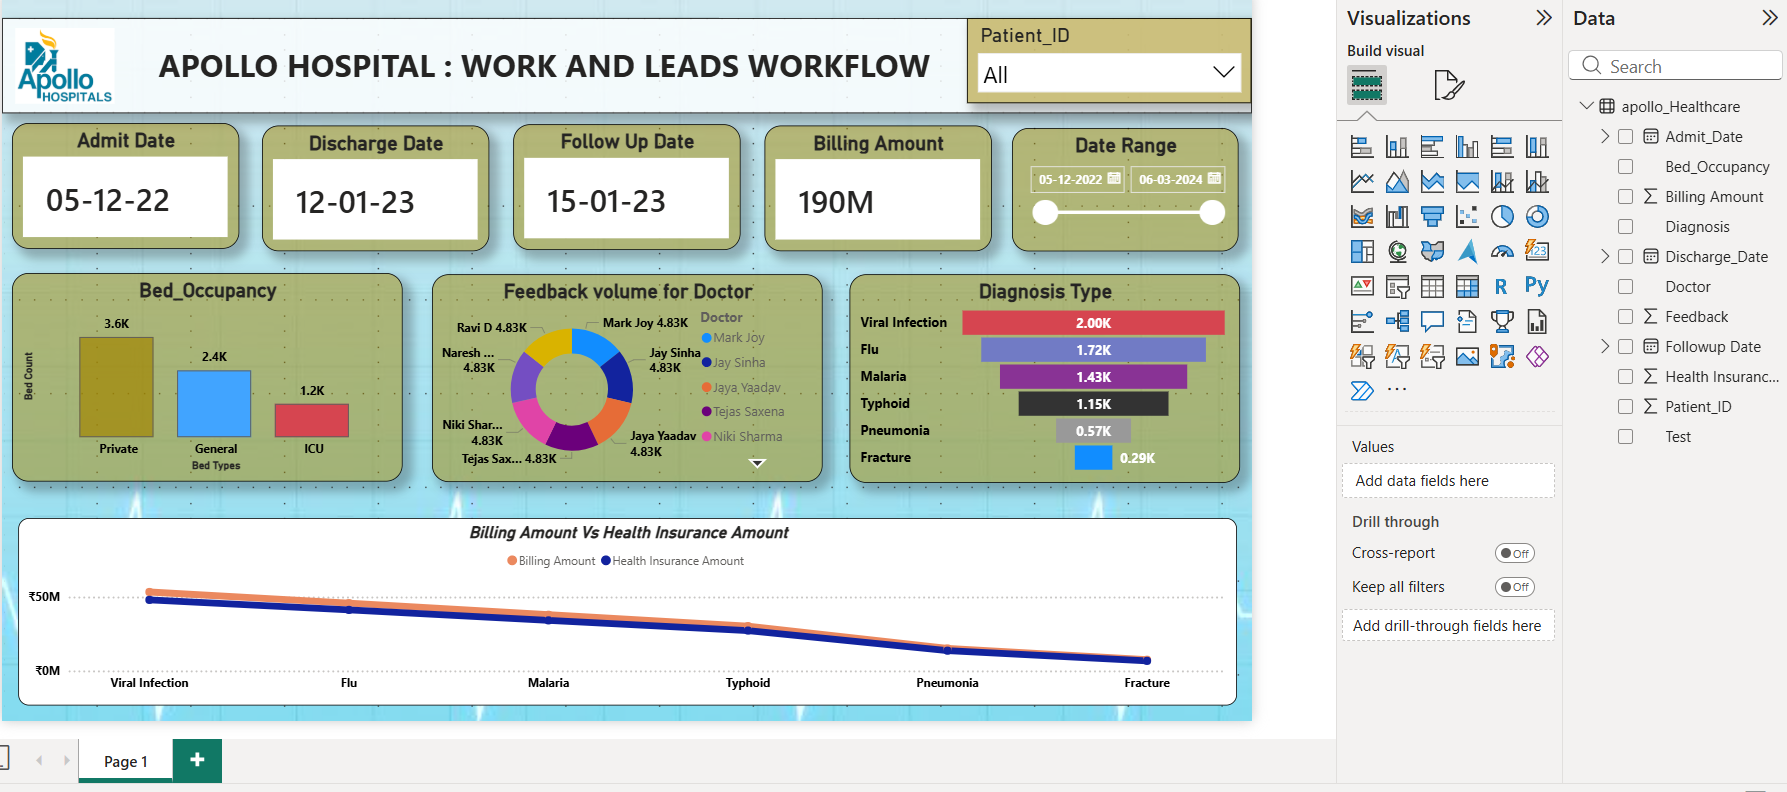

The dashboard page shown, as its layout file describes it:
{"tool":"powerbi","page":{"name":"Page 1","canvas":[1280,720],"ordinal":0},"visuals":[{"type":"textbox","box":[0,0,1280,97.5],"z":0},{"type":"image","box":[0,10,133.8,77.5],"z":1000},{"type":"slicer","fields":{"Values":["apollo_Healthcare.Patient_ID"]},"box":[988.8,0,291.2,87.5],"z":2000},{"type":"cardVisual","title":"Admit Date","fields":{"Data":["Min(apollo_Healthcare.Admit_Date)"]},"box":[10,107.5,232.5,128.8],"z":3000},{"type":"cardVisual","title":"Discharge Date","fields":{"Data":["Min(apollo_Healthcare.Discharge_Date)"]},"box":[266.2,110,232.5,128.8],"z":4000},{"type":"cardVisual","title":"Follow Up Date","fields":{"Data":["Min(apollo_Healthcare.Followup Date)"]},"box":[523.8,108.8,232.5,128.8],"z":5000},{"type":"cardVisual","title":"Billing Amount","fields":{"Data":["Sum(apollo_Healthcare.Billing Amount)"]},"box":[781.2,110,232.5,128.8],"z":6000},{"type":"slicer","title":"Date Range","fields":{"Values":["apollo_Healthcare.Admit_Date"]},"box":[1034.8,112.3,232.2,126.1],"z":7000},{"type":"clusteredColumnChart","title":"Bed_Occupancy ","fields":{"Category":["apollo_Healthcare.Bed_Occupancy"],"Y":["CountNonNull(apollo_Healthcare.Bed_Occupancy)"]},"box":[10,261.2,400,213.8],"z":8000},{"type":"donutChart","title":"Feedback volume for Doctor ","fields":{"Category":["apollo_Healthcare.Doctor"],"Y":["Sum(apollo_Healthcare.Feedback)"]},"box":[440,262.5,400,212.5],"z":9000},{"type":"funnel","title":"Diagnosis Type","fields":{"Category":["apollo_Healthcare.Diagnosis"],"Y":["CountNonNull(apollo_Healthcare.Diagnosis)"]},"box":[867.5,262.5,400,213.8],"z":10000},{"type":"lineChart","title":"Billing Amount Vs Health Insurance Amount ","fields":{"Y":["Sum(apollo_Healthcare.Billing Amount)","Sum(apollo_Healthcare.Health Insurance Amount)"],"Category":["apollo_Healthcare.Diagnosis"]},"box":[16,512,1248,192],"z":11000}]}

Visuals, with their boxes on the page's 1280x720 design canvas (x1, y1, x2, y2). These are canvas units, not pixel positions in the 1787x792 screenshot, which may show the page scaled, cropped or inside an application window:
textbox: [left=0, top=0, right=1280, bottom=98]
image: [left=0, top=10, right=134, bottom=88]
slicer - apollo_Healthcare.Patient_ID: [left=989, top=0, right=1280, bottom=88]
"Admit Date" cardVisual: [left=10, top=108, right=242, bottom=236]
"Discharge Date" cardVisual: [left=266, top=110, right=499, bottom=239]
"Follow Up Date" cardVisual: [left=524, top=109, right=756, bottom=238]
"Billing Amount" cardVisual: [left=781, top=110, right=1014, bottom=239]
"Date Range" slicer: [left=1035, top=112, right=1267, bottom=238]
"Bed_Occupancy " clusteredColumnChart: [left=10, top=261, right=410, bottom=475]
"Feedback volume for Doctor " donutChart: [left=440, top=262, right=840, bottom=475]
"Diagnosis Type" funnel: [left=868, top=262, right=1268, bottom=476]
"Billing Amount Vs Health Insurance Amount " lineChart: [left=16, top=512, right=1264, bottom=704]
